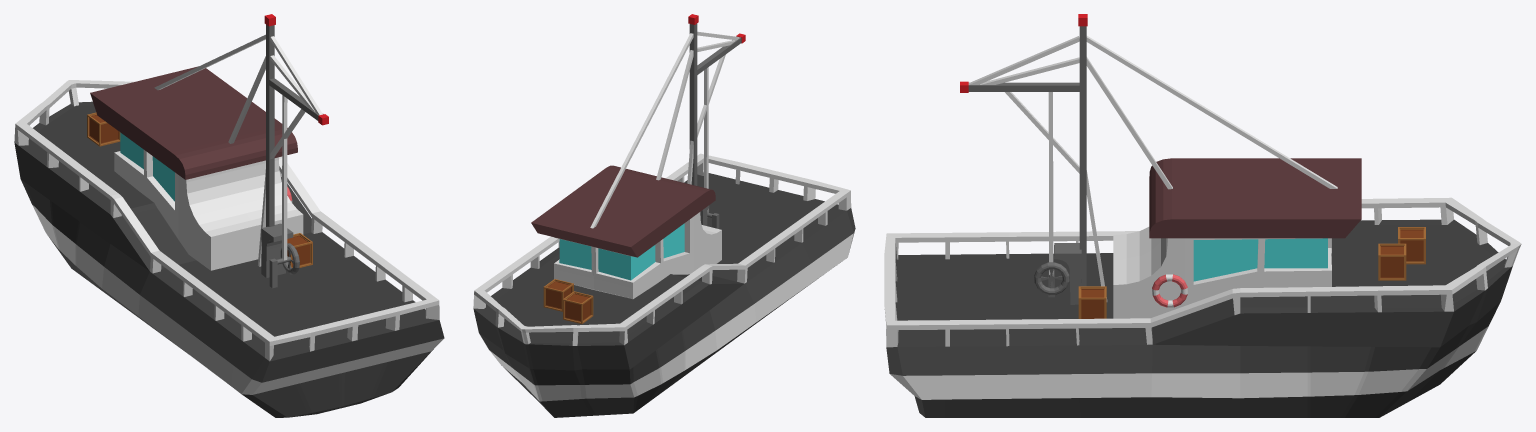
File: Boat02.fbx
The picture shows the model from 3 angles, left to right: view 1: azimuth 30°, elevation 25°; view 2: azimuth 150°, elevation 25°; view 3: azimuth 270°, elevation 25°; orthographic projection. The views are drawn at different scales.
Parts seen in each view (by area): view 1: Cube.001, Cube.004, Cube.003, Cube.005, Cube.014, Cube.013, Cube.016, Torus.002, Cube.007, Cube.006, Cube.017, Cube.010 (+1 smaller); view 2: Cube.001, Cube.004, Cube.003, Cube.005, Cube.007, Cube.016, Cube.015, Cube.008, Cube.013, Cube.006, Cube.011; view 3: Cube.001, Cube.004, Cube.003, Cube.005, Cube.007, Cube.006, Cube.015, Cube.014, Cube.017, Cube.016, Cube.008, Torus.002 (+5 smaller).
Boxes of the visible parts, <box> form: Cube.001: <box>14,80,444,417</box>; Cube.004: <box>90,66,297,179</box>; Cube.003: <box>114,132,303,270</box>; Cube.005: <box>264,14,275,226</box>; Cube.014: <box>261,223,293,277</box>; Cube.013: <box>282,95,287,260</box>; Cube.016: <box>87,112,120,146</box>; Torus.002: <box>269,243,299,288</box>; Cube.007: <box>154,34,265,90</box>; Cube.006: <box>267,78,328,125</box>; Cube.017: <box>287,233,312,267</box>; Cube.010: <box>270,36,322,115</box>; Cube.001: <box>473,153,855,417</box>; Cube.004: <box>531,165,715,257</box>; Cube.003: <box>554,212,721,299</box>; Cube.005: <box>688,14,698,185</box>; Cube.007: <box>590,33,693,228</box>; Cube.016: <box>563,291,593,324</box>; Cube.015: <box>543,279,573,311</box>; Cube.008: <box>656,50,693,180</box>; Cube.013: <box>704,67,708,212</box>; Cube.006: <box>695,33,745,74</box>; Cube.011: <box>697,54,725,137</box>; Cube.001: <box>884,197,1521,417</box>; Cube.004: <box>1149,158,1361,238</box>; Cube.003: <box>1113,227,1331,318</box>; Cube.005: <box>1078,14,1087,286</box>; Cube.007: <box>1086,36,1337,188</box>; Cube.006: <box>960,81,1085,92</box>; Cube.015: <box>1378,243,1406,280</box>; Cube.014: <box>1054,243,1081,304</box>; Cube.017: <box>1078,286,1106,318</box>; Cube.016: <box>1398,227,1425,264</box>; Cube.008: <box>1086,57,1172,189</box>; Torus.002: <box>1034,262,1069,297</box>.
Bounding box in the file's own units: 229 × 381 × 585.
